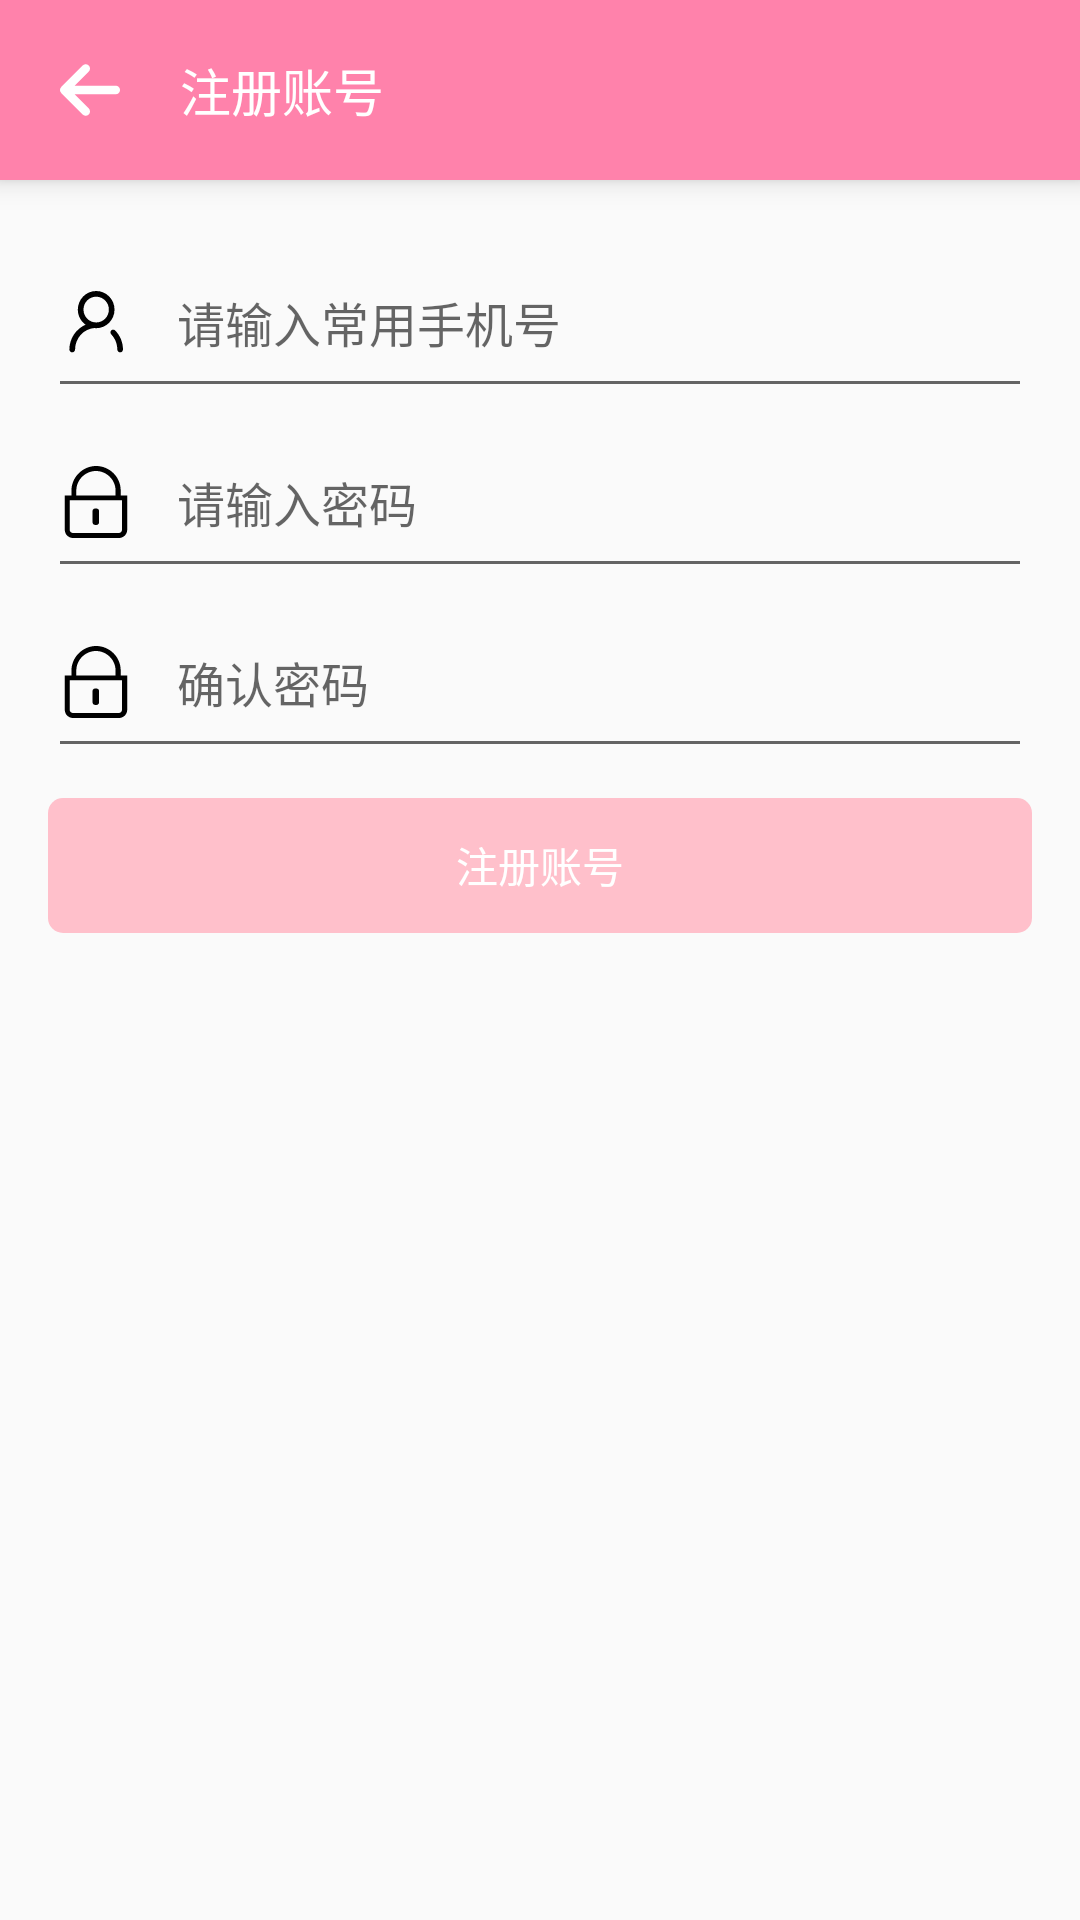

Icon click points for this 1080 × 1920 phone screenshot, format point (x, y):
back: point (90, 90)
